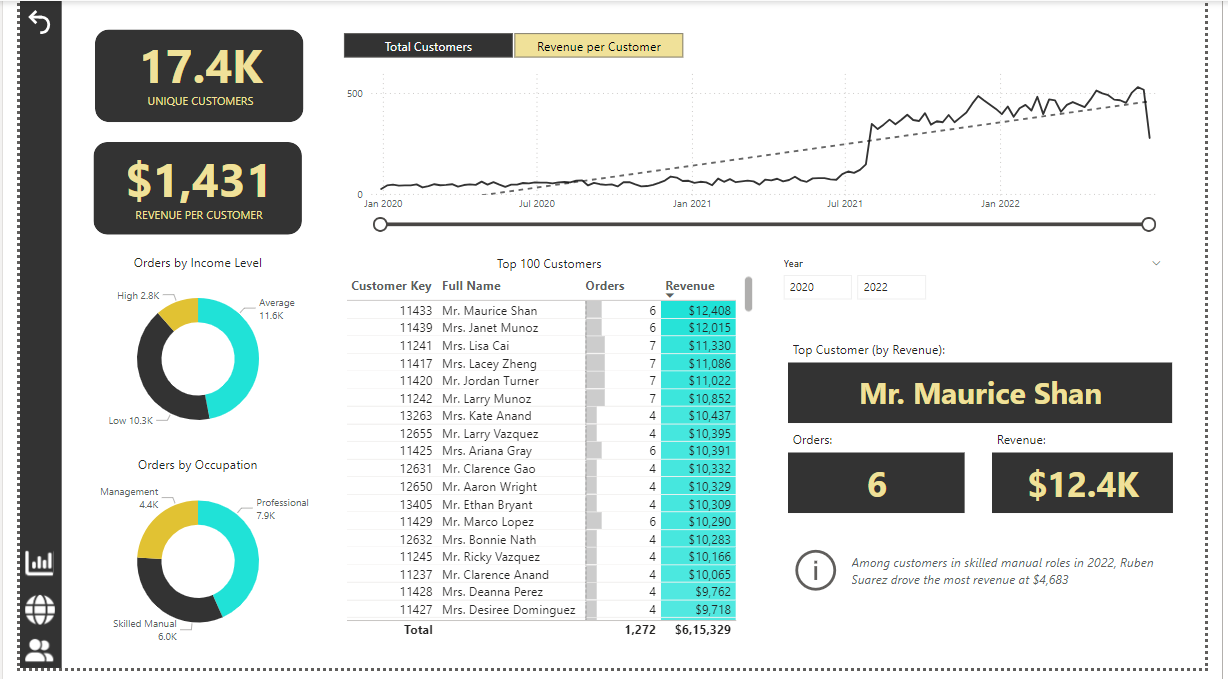

This screenshot's page, from the dashboard's own definition file:
{"tool":"powerbi","page":{"name":"Customer Detail","canvas":[1280,720],"ordinal":2},"visuals":[{"type":"shape","box":[0,0,45,720],"z":0},{"type":"actionButton","box":[1.5,587.2,46.7,38.3],"z":0,"group":"g1"},{"type":"shape","box":[81.7,30,225,100],"z":1000},{"type":"actionButton","box":[2.3,621.8,40,70],"z":1000,"group":"g1"},{"type":"shape","box":[80,152.7,225,100],"z":2000},{"type":"card","fields":{"Values":["Measure Table.Total Customers"]},"box":[66.7,0,256.2,150],"z":3000},{"type":"actionButton","box":[2.3,681.8,40,38.3],"z":3000,"group":"g1"},{"type":"card","fields":{"Values":["Measure Table.Average Revenue per Customer"]},"box":[65,122.7,256.2,150],"z":4000},{"type":"lineChart","fields":{"Y":["Measure Table.Total Customers"],"Category":["Calendar Lookup.Date Hierarchy.Year","Calendar Lookup.Date Hierarchy.Start of Month","Calendar Lookup.Date Hierarchy.Start of Week","Calendar Lookup.Date Hierarchy.Date"]},"box":[345.9,63.3,898.6,188.8],"z":5000},{"type":"donutChart","title":"Orders by Income Level","fields":{"Category":["Customer Lookup.Income Level"],"Y":["Measure Table.Total Orders"]},"box":[63.8,272.5,257.5,210],"z":6000},{"type":"donutChart","title":"Orders by Occupation","fields":{"Y":["Measure Table.Total Orders"],"Category":["Customer Lookup.Occupation"]},"box":[63.8,490,257.5,210],"z":7000},{"type":"tableEx","title":"Top 100 Customers","fields":{"Values":["Customer Lookup.CustomerKey","Customer Lookup.Full Name","Measure Table.Total Orders","Measure Table.Total Revenue"]},"box":[346,273.6,449.4,418.4],"z":8000},{"type":"card","fields":{"Values":["Min(Customer Lookup.Full Name)"]},"box":[829.6,390.1,414.5,65.1],"z":9000},{"type":"card","fields":{"Values":["Measure Table.Total Orders"]},"box":[829.6,487,190.7,65.1],"z":10000},{"type":"card","fields":{"Values":["Measure Table.Total Revenue"]},"box":[1048.7,487,195.4,65.1],"z":11000},{"type":"textbox","box":[829.6,361.7,190.7,37.9],"z":12000},{"type":"textbox","box":[829.6,458.4,190.7,37.9],"z":13000},{"type":"textbox","box":[1048.7,458.4,190.7,37.9],"z":14000},{"type":"slicer","fields":{"Values":["Calendar Lookup.Year"]},"box":[811.6,272.4,432.9,80.3],"z":15000},{"type":"actionButton","box":[830,586.7,410,56.7],"z":16000},{"type":"actionButton","box":[3.3,5.6,35.6,35.6],"z":17000},{"type":"group","id":"g1","title":"Navigation Buttons","box":[1.5,587.2,46.7,133],"z":18000},{"type":"slicer","fields":{"Values":["Customer Metric Selection.Customer Metric Selection"]},"box":[323.3,27.1,415.9,36.2],"z":19000}]}

Visuals, with their boxes on the page's 1280x720 design canvas (x1, y1, x2, y2). These are canvas units, not pixel positions in the 1228x679 screenshot, which may show the page scaled, cropped or inside an application window:
shape: 0:0:45:720
actionButton: 2:587:48:626
shape: 82:30:307:130
actionButton: 2:622:42:692
shape: 80:153:305:253
card - Measure Table.Total Customers: 67:0:323:150
actionButton: 2:682:42:720
card - Measure Table.Average Revenue per Customer: 65:123:321:273
lineChart - Measure Table.Total Customers x Calendar Lookup.Date Hierarchy.Year: 346:63:1244:252
"Orders by Income Level" donutChart: 64:272:321:482
"Orders by Occupation" donutChart: 64:490:321:700
"Top 100 Customers" tableEx: 346:274:795:692
card - Min(Customer Lookup.Full Name): 830:390:1244:455
card - Measure Table.Total Orders: 830:487:1020:552
card - Measure Table.Total Revenue: 1049:487:1244:552
textbox: 830:362:1020:400
textbox: 830:458:1020:496
textbox: 1049:458:1239:496
slicer - Calendar Lookup.Year: 812:272:1244:353
actionButton: 830:587:1240:643
actionButton: 3:6:39:41
"Navigation Buttons" group: 2:587:48:720
slicer - Customer Metric Selection.Customer Metric Selection: 323:27:739:63
